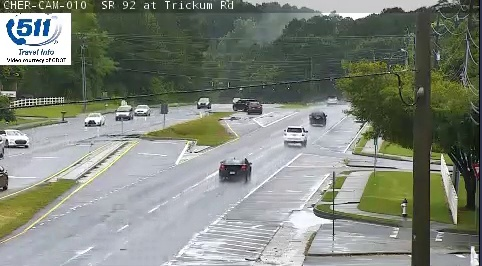car: (218, 158, 251, 179), (283, 126, 307, 145), (309, 111, 327, 126)
